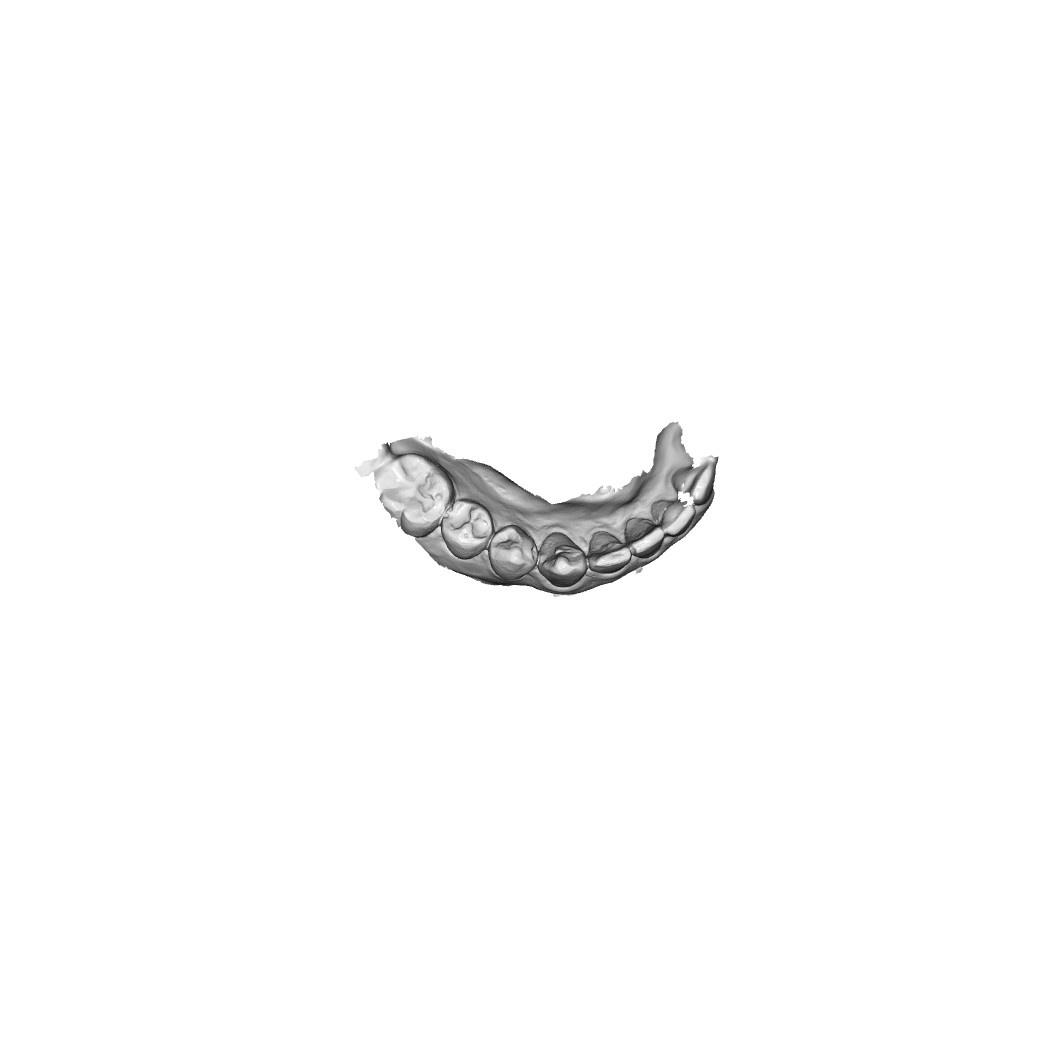canine: (538, 528, 585, 590)
incisor: (587, 525, 634, 584), (668, 455, 719, 504), (651, 497, 697, 541), (627, 518, 669, 561)
molar: (373, 454, 454, 532)
premolar: (486, 527, 542, 583), (443, 501, 493, 556)
